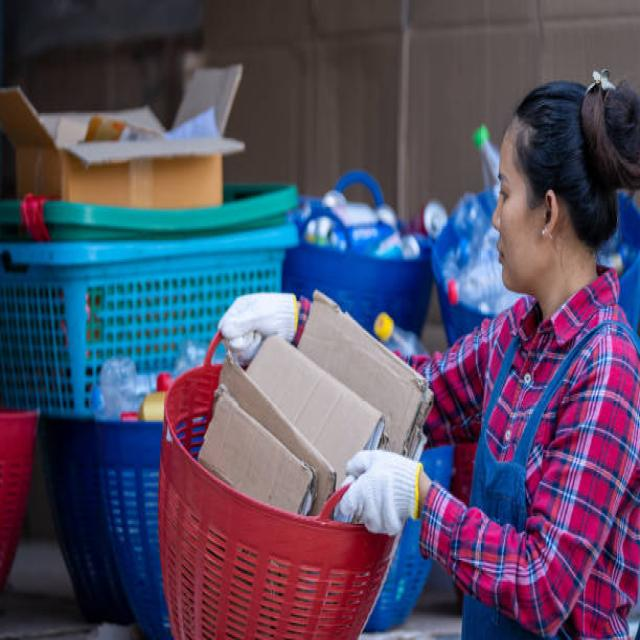cardboard: (234, 359, 398, 450)
